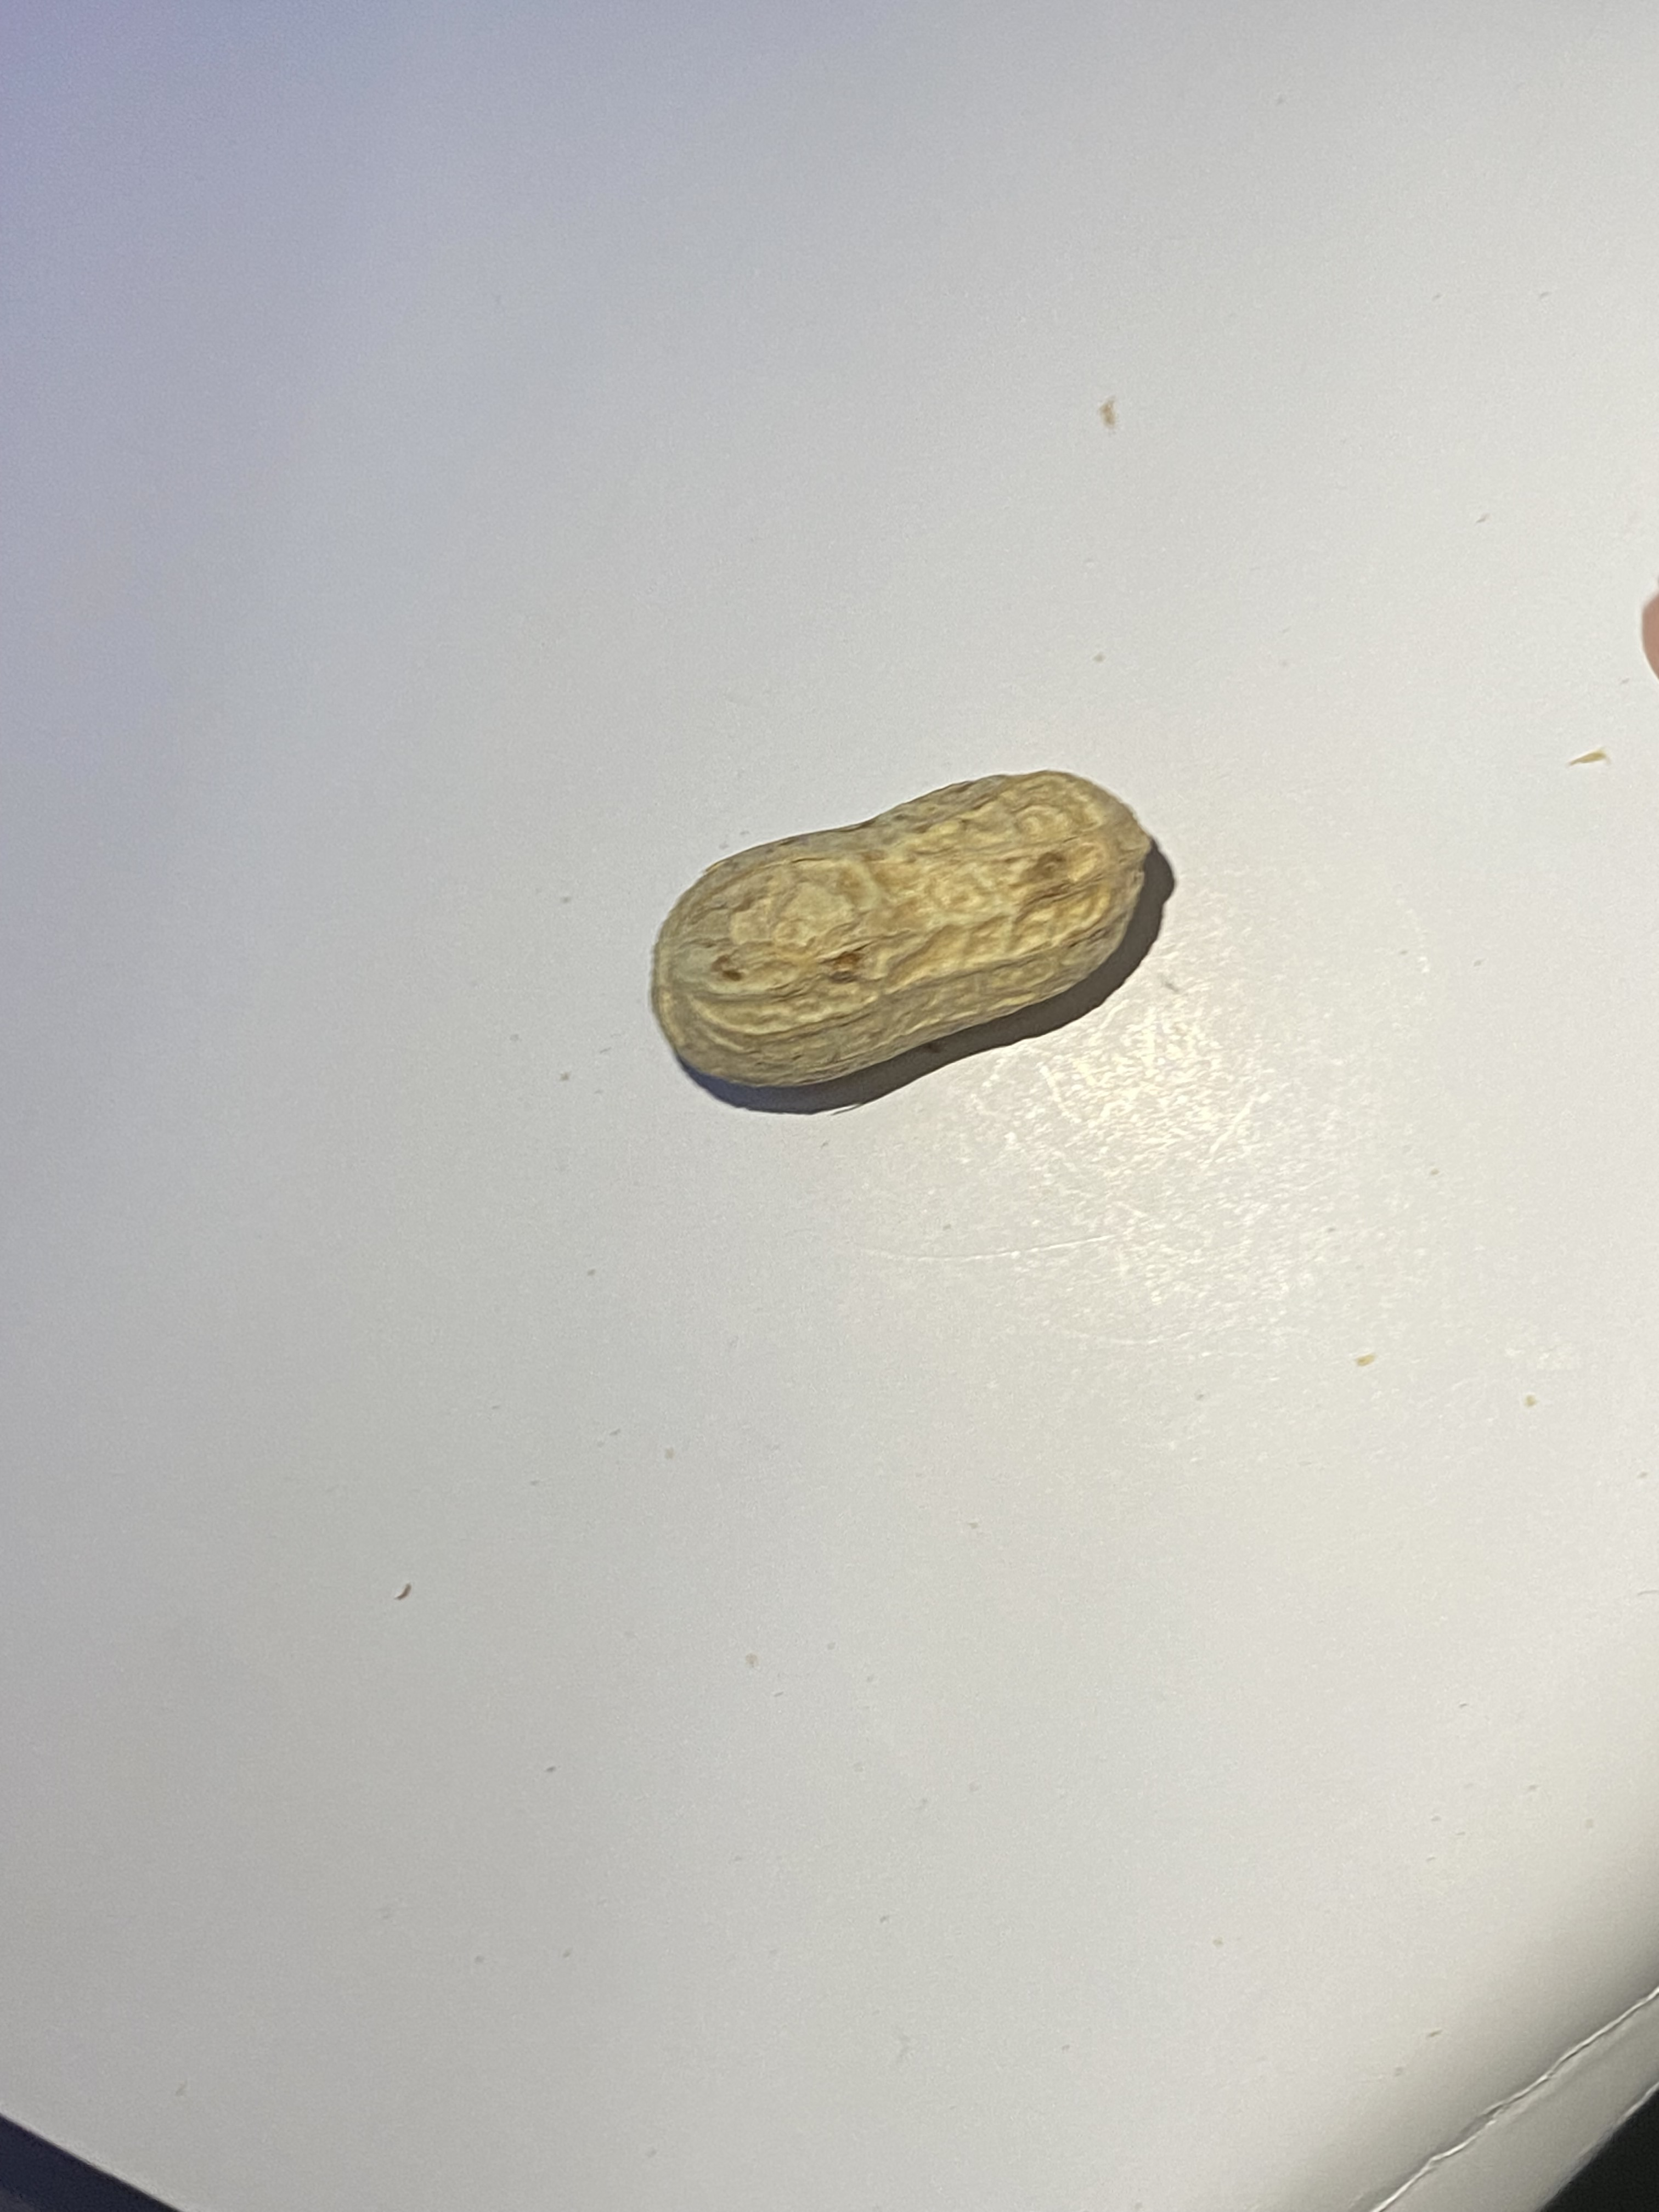kacang2: (617, 732, 1209, 1092)
